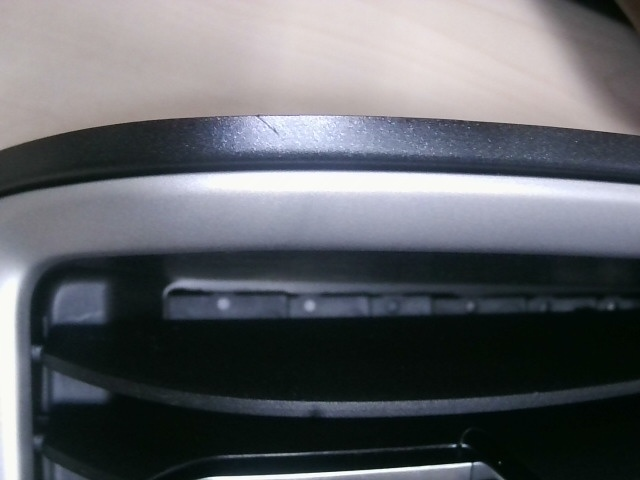NG: (246, 108, 288, 146)
